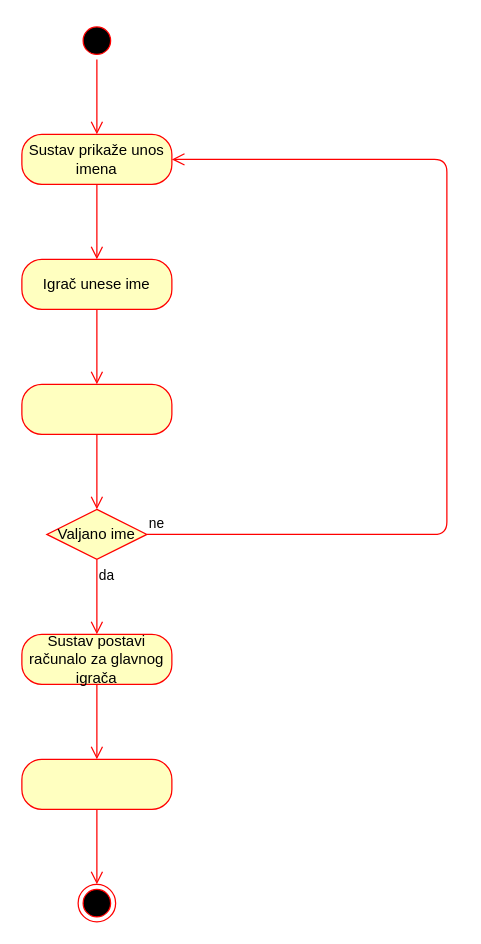
The diagram is 481 pixels wide and 944 high, and some of its shapes have lost their labels. The shapes that lost their labels are listed below. From the top down, each one's centre as x and y in pixels, then its label:
the point at 96,408: Sustav provjeri valjanost imena
the point at 96,783: Igra postavi korisnika s imenom za drugog igrača
